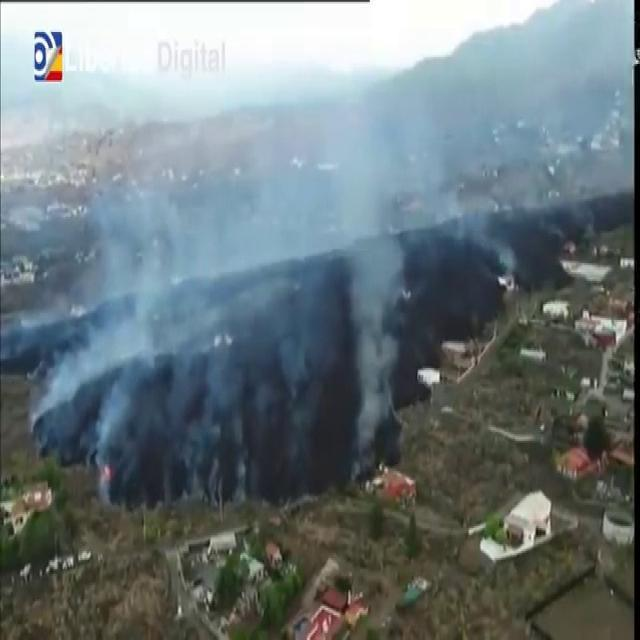Smoke: (34, 118, 418, 474)
